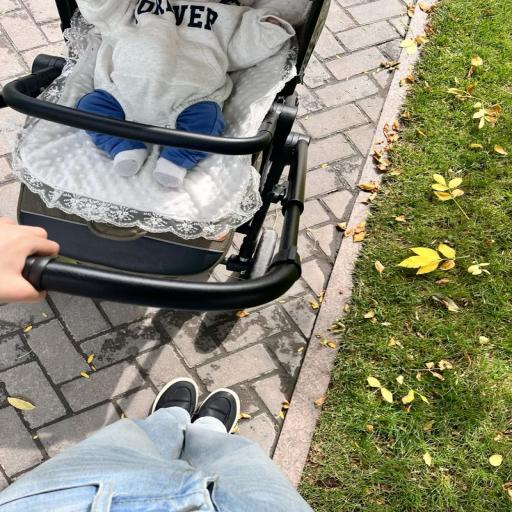bus_stop: (78, 0, 294, 135)
construction_fence: (273, 237, 361, 486)
shelf: (0, 0, 409, 488)
steps_down: (0, 0, 329, 311)
